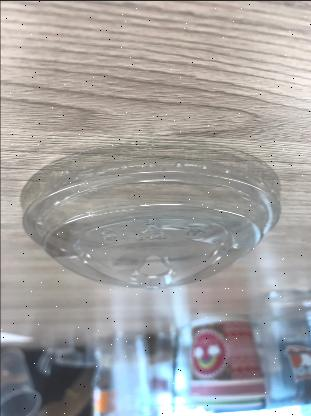Others: (20, 140, 280, 286)
